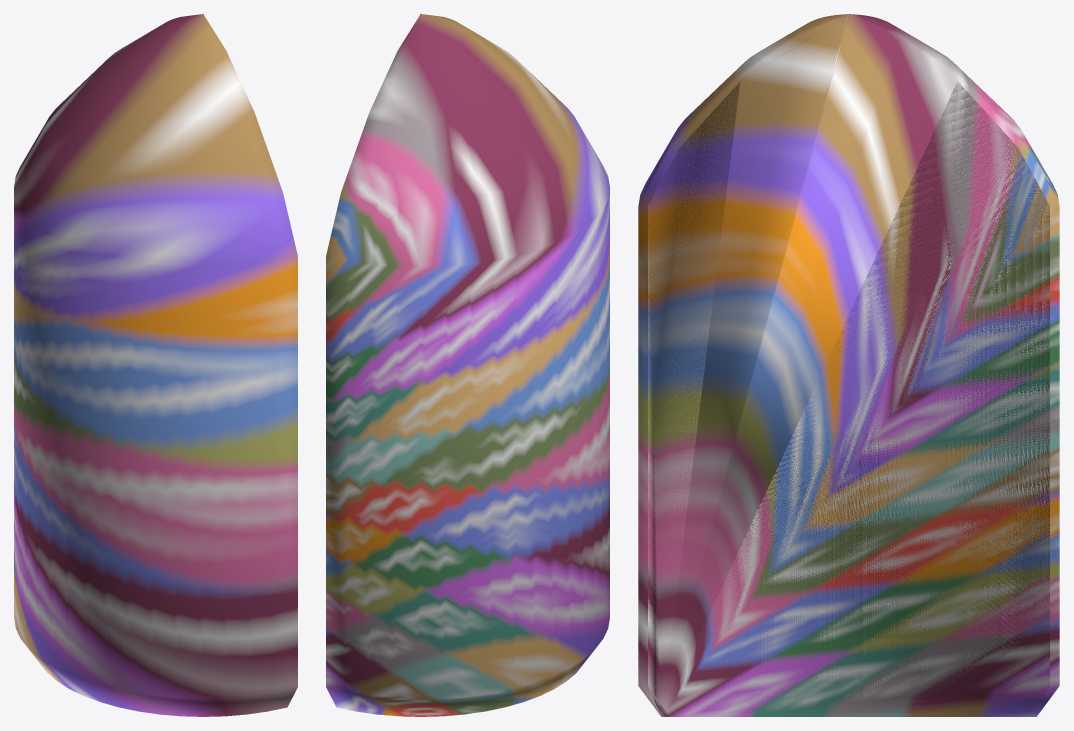
Rendered from falcon9fairing.obj.
3 renders of one model, left to right at view 1: azimuth 30°, elevation 25°; view 2: azimuth 150°, elevation 25°; view 3: azimuth 270°, elevation 25°, orthographic. The views are drawn at different scales.
Visible parts, largest first — view 1: Tube1; view 2: Tube1; view 3: Tube1.
Boxes of the visible parts, x1,y1,x2,y2 form: Tube1: [14, 14, 297, 716]; Tube1: [326, 14, 609, 716]; Tube1: [638, 14, 1059, 716].
Bounding box in the file's own units: 6.2 × 22.72 × 12.34.
Materials: 1 (1 with a texture image).
